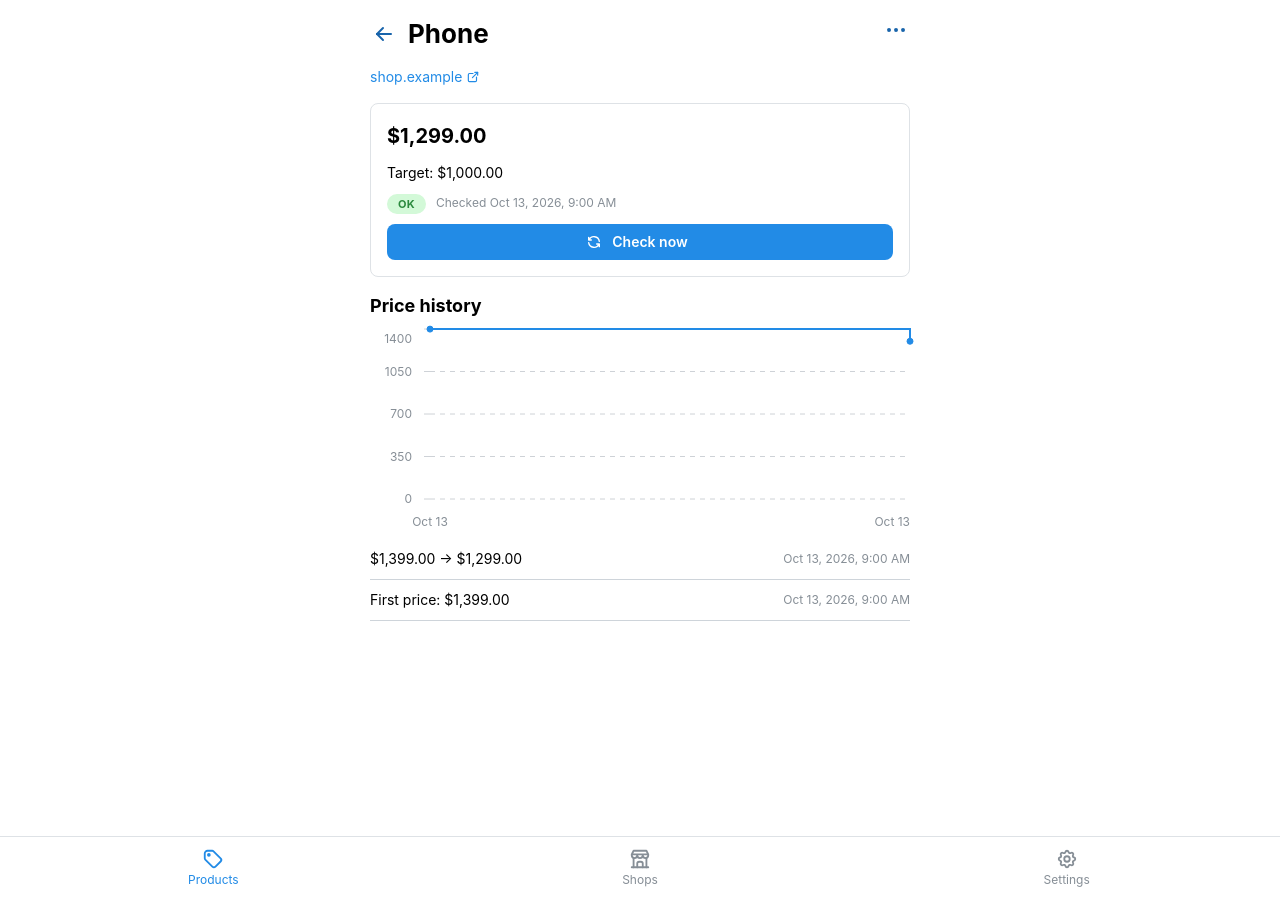
ProductDetailsPage › shows the backend message when the check fails
Step 1. Click the button "Check now" → point(640, 242), box [387,224,893,260]
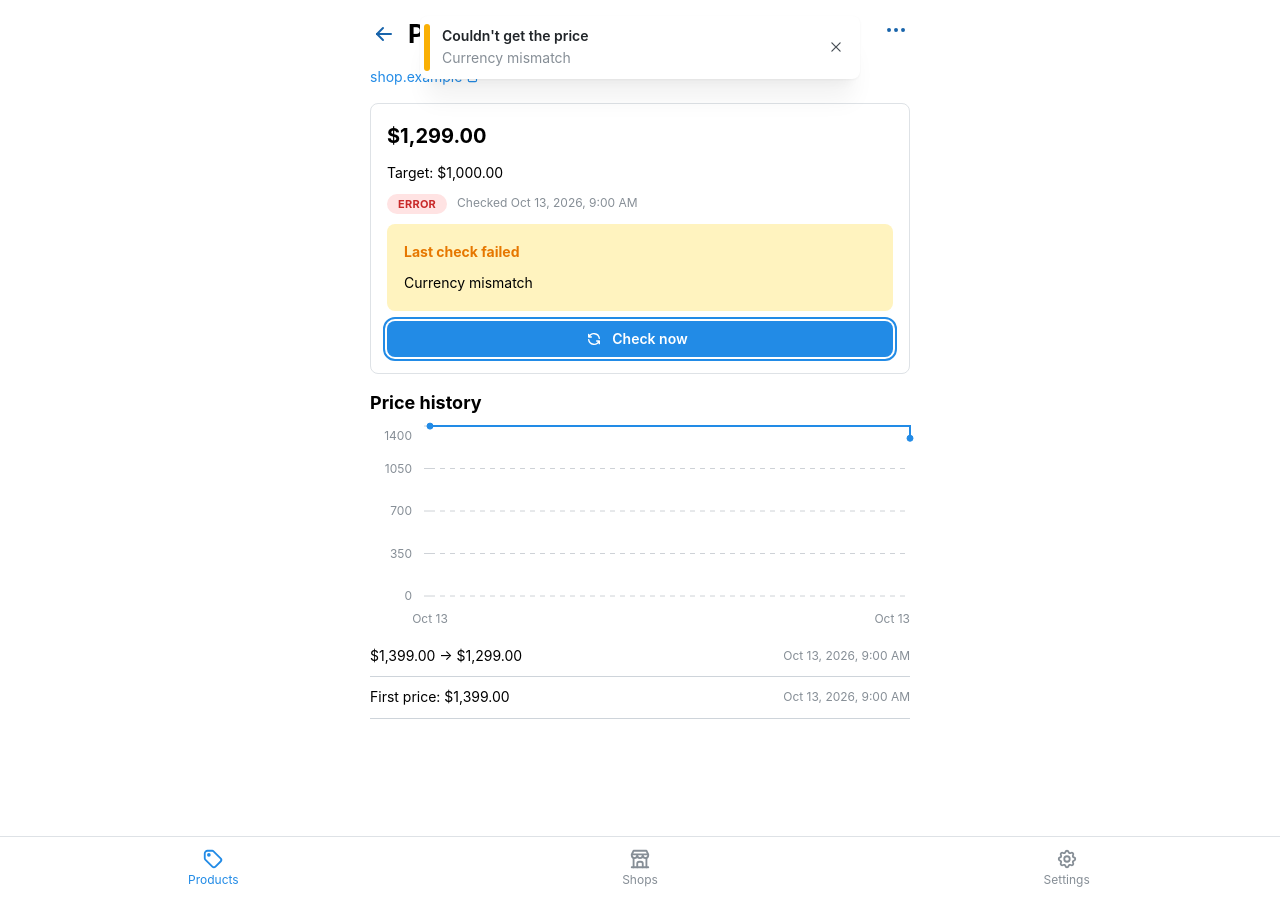
Expected: the text "Couldn't get the price" is shown, [442,27,588,44]
Expected: the text "Currency mismatch" below "Last check failed" is shown, [404,274,533,291]
